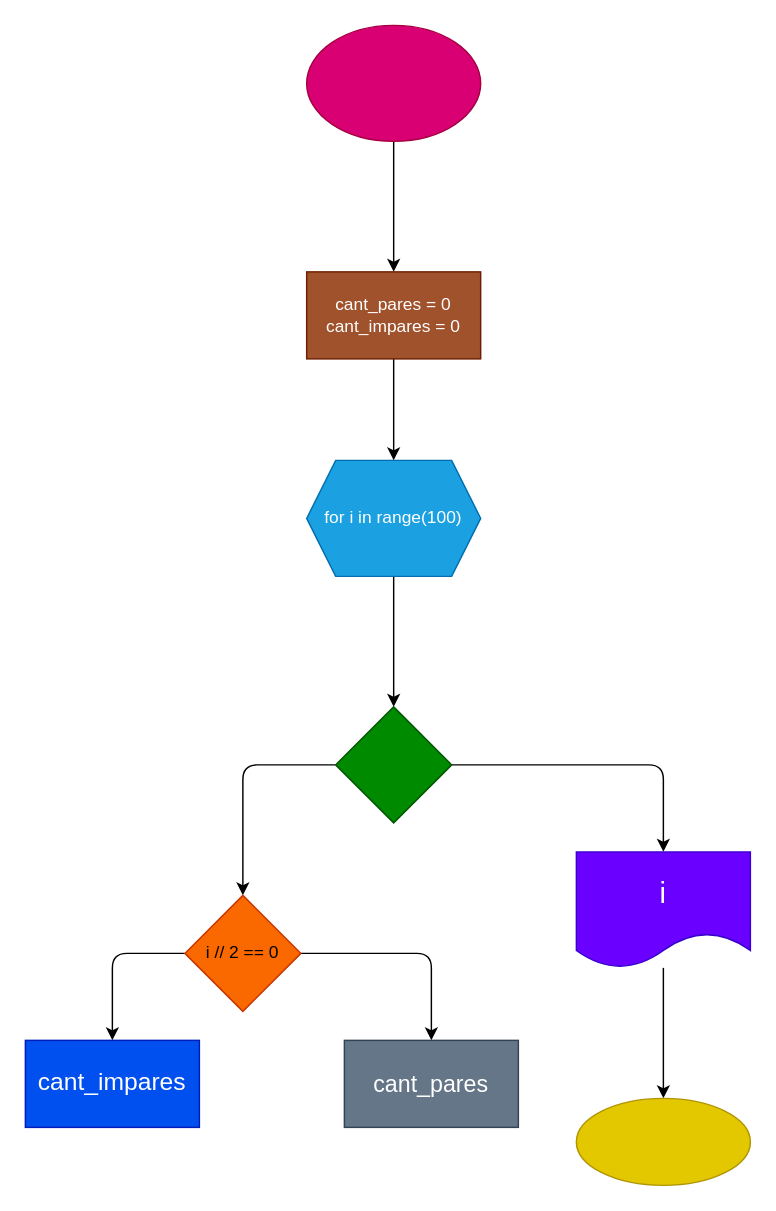
Image size: 776x1211. Some labels were removed from this diagram. The centre of each missing label's shape, as x and y in pixels:
FIN: point (662, 1141)
i != 0: point (393, 764)
INICIO: point (393, 82)
